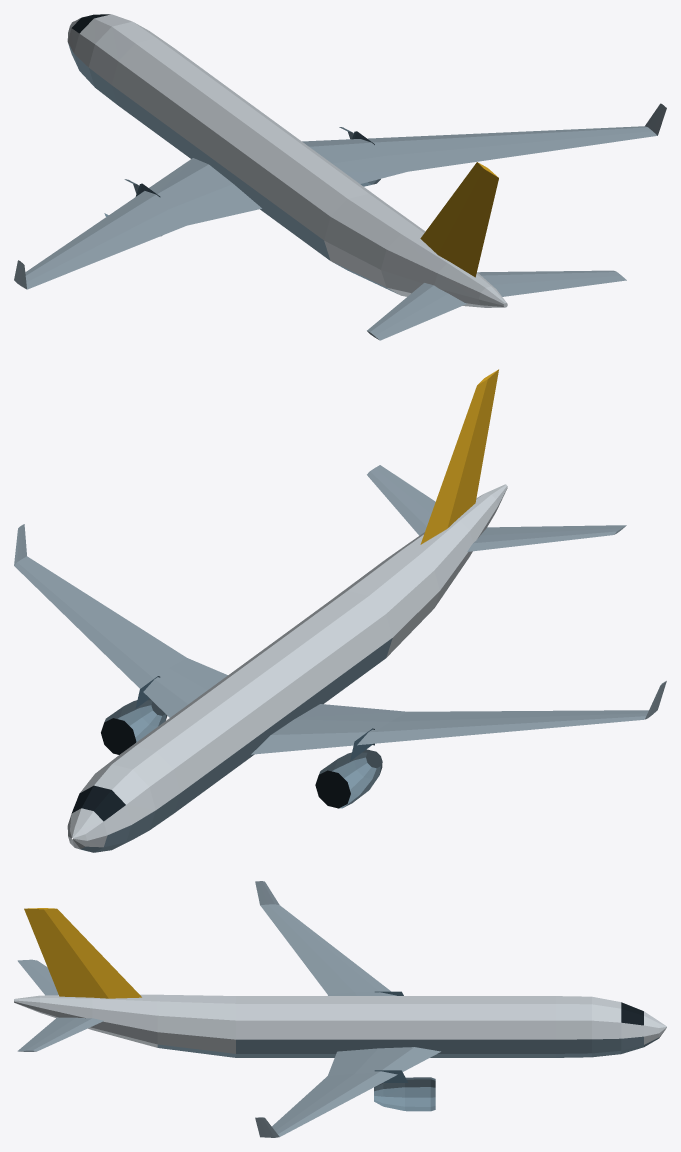
3 renders of one model, top to bottom at view 1: azimuth 30°, elevation 25°; view 2: azimuth 150°, elevation 25°; view 3: azimuth 270°, elevation 25°, orthographic. The views are drawn at different scales.
Parts seen in each view (by area): view 1: lod0; view 2: lod0; view 3: lod0.
Part boxes in pixels (x1,y1,x2,y2): lod0: [14, 14, 666, 340]; lod0: [14, 369, 666, 852]; lod0: [14, 881, 666, 1137].
Size of what is drawn, in the model's own units: 0.856 by 0.2723 by 1.
